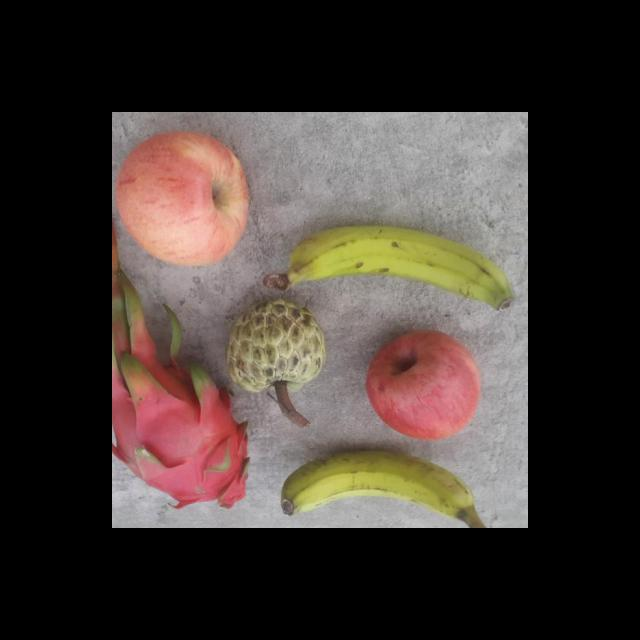Sakya fruit: (222, 294, 332, 402)
apple: (114, 127, 258, 266), (362, 326, 488, 441)
banana: (272, 221, 516, 311), (277, 446, 494, 528)
pitaya: (112, 339, 252, 510)
